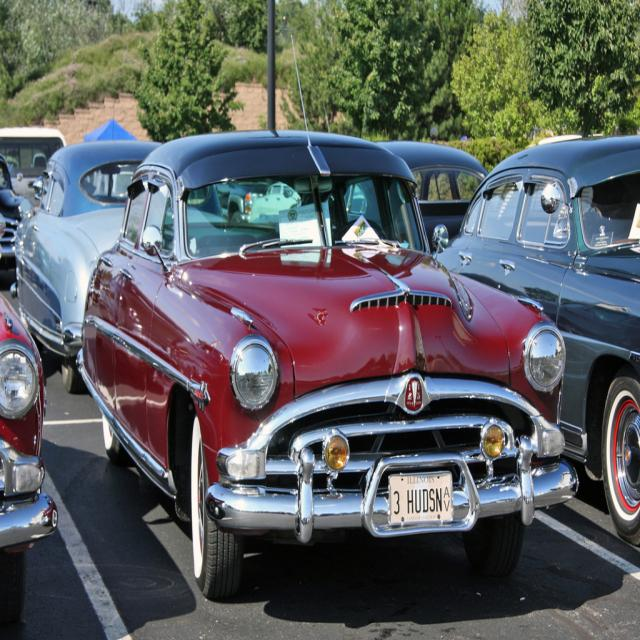car: (79, 36, 580, 598)
